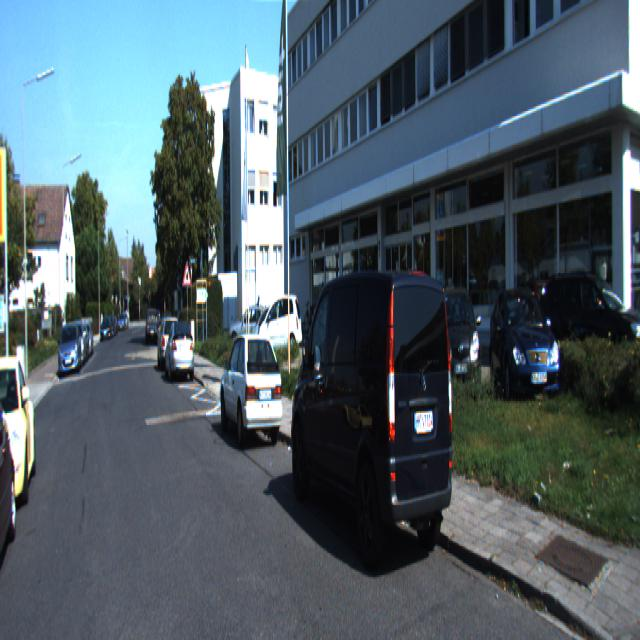Car: (286, 249, 460, 596), (489, 279, 564, 421), (217, 329, 284, 454), (430, 284, 488, 416), (255, 291, 304, 361), (164, 318, 194, 382), (59, 322, 82, 376), (142, 307, 154, 347)
